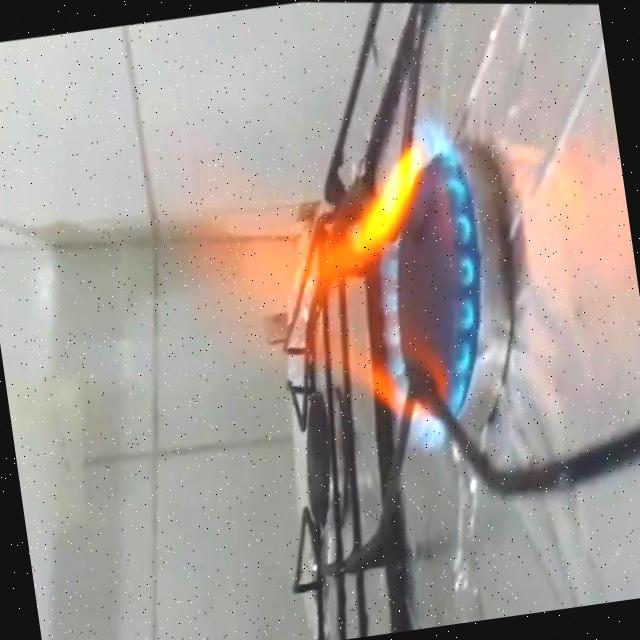fire: (120, 67, 532, 501)
